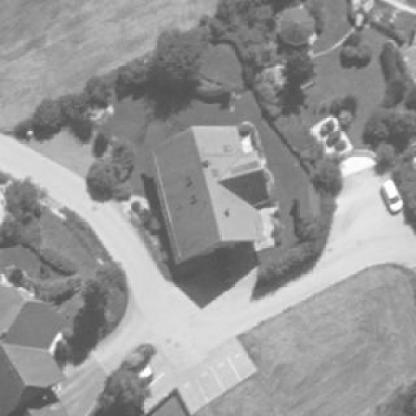solar-pv-panel: (232, 159, 259, 175)
